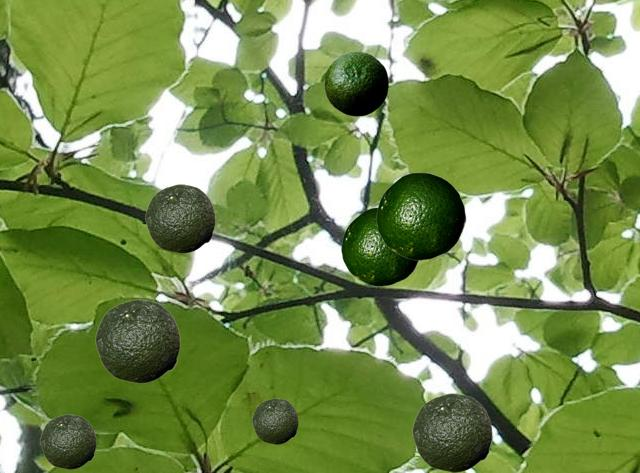calamansi: (376, 172, 465, 259), (95, 299, 179, 382), (412, 393, 491, 471), (341, 207, 419, 285), (145, 184, 214, 252), (324, 51, 387, 115), (40, 414, 95, 468), (252, 398, 297, 443)
